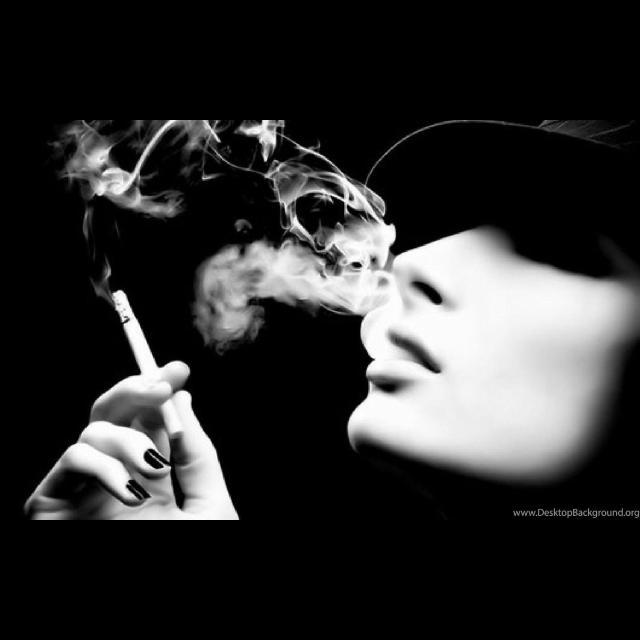rokok: (103, 282, 189, 441)
